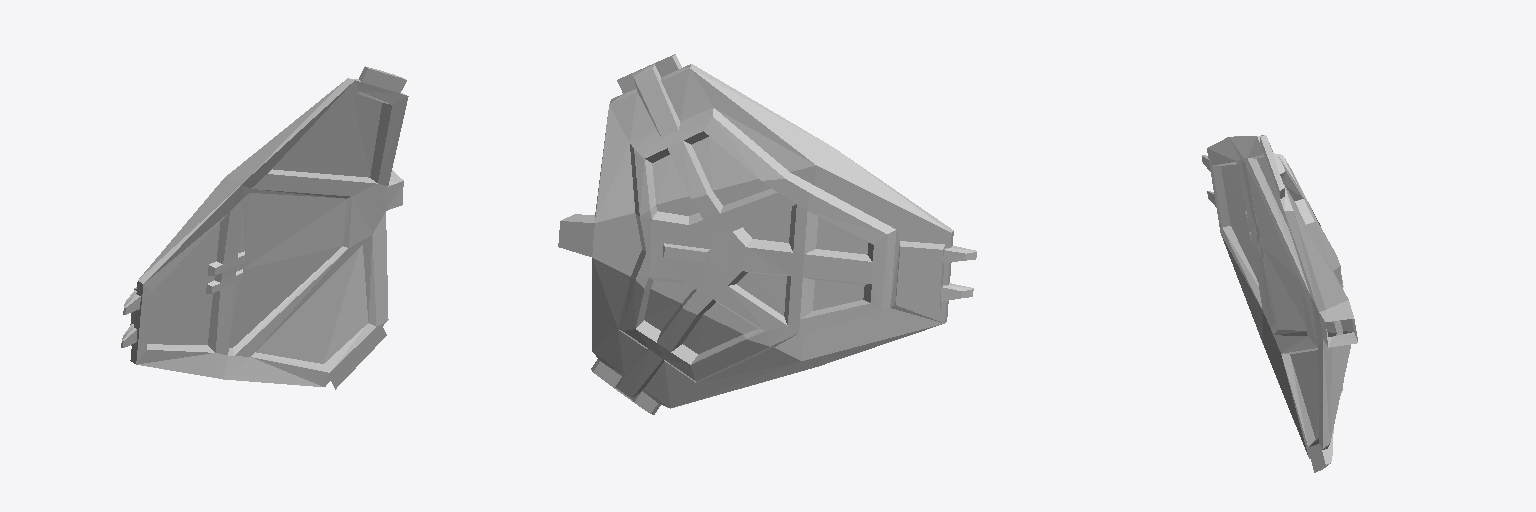
The model's file is bst_ionarrayfrigatepanel2.obj.
The picture shows the model from 3 angles: view 1: azimuth 30°, elevation 25°; view 2: azimuth 150°, elevation 25°; view 3: azimuth 270°, elevation 25°; orthographic projection.
Visible parts, largest first — view 1: Tur_IonArrayFrigate; view 2: Tur_IonArrayFrigate; view 3: Tur_IonArrayFrigate.
Boxes of the visible parts, <box> form: Tur_IonArrayFrigate: <box>121,66,408,389</box>; Tur_IonArrayFrigate: <box>558,54,976,414</box>; Tur_IonArrayFrigate: <box>1202,135,1357,472</box>.
Size of the model in its own units: 55.56 by 52.85 by 22.12.